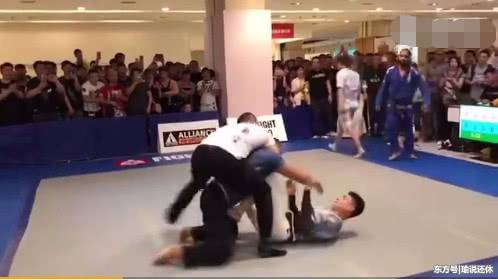10+: (1, 28, 498, 271)
down: (144, 136, 328, 270), (160, 106, 298, 261), (231, 158, 368, 245)
